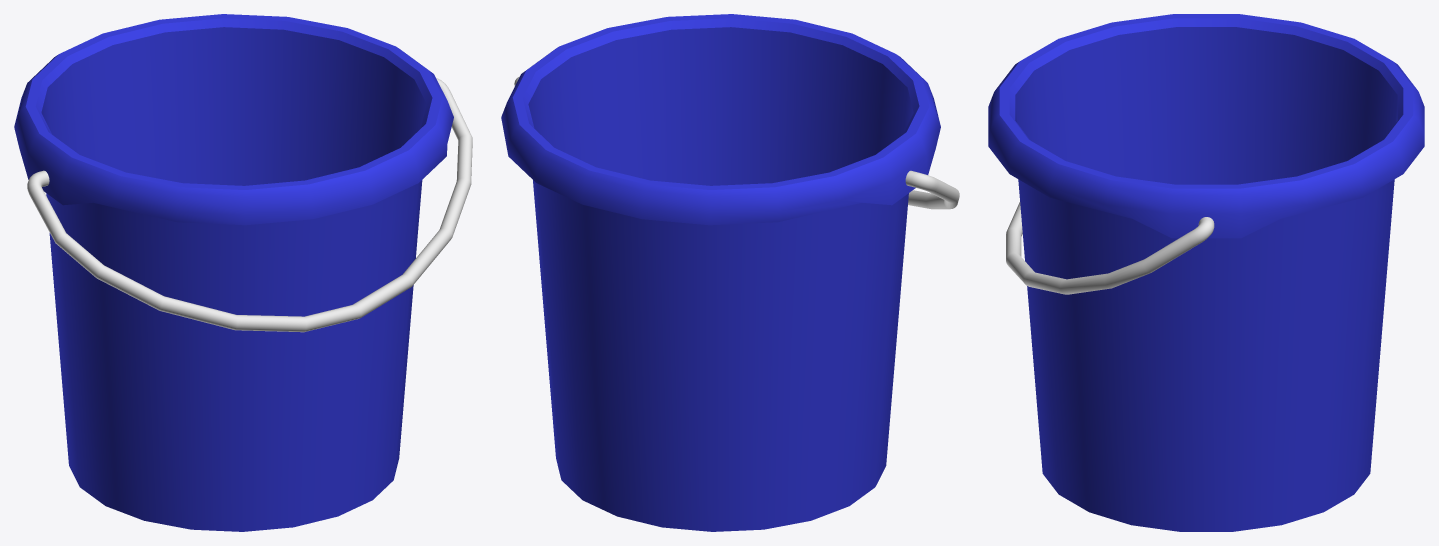
The model's file is wiadro.fbx.
3 views of the same model, side by side, from view 1: azimuth 30°, elevation 25°; view 2: azimuth 150°, elevation 25°; view 3: azimuth 270°, elevation 25° (orthographic).
Visible parts, largest first — view 1: Plane; view 2: Plane; view 3: Plane.
Boxes of the visible parts, <box> form: Plane: <box>14,14,472,531</box>; Plane: <box>501,14,959,531</box>; Plane: <box>988,14,1424,531</box>.
Bounding box in the file's own units: 248 × 204 × 223.
